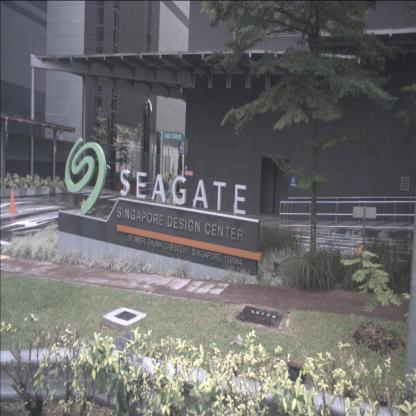cone: (8, 189, 18, 214)
